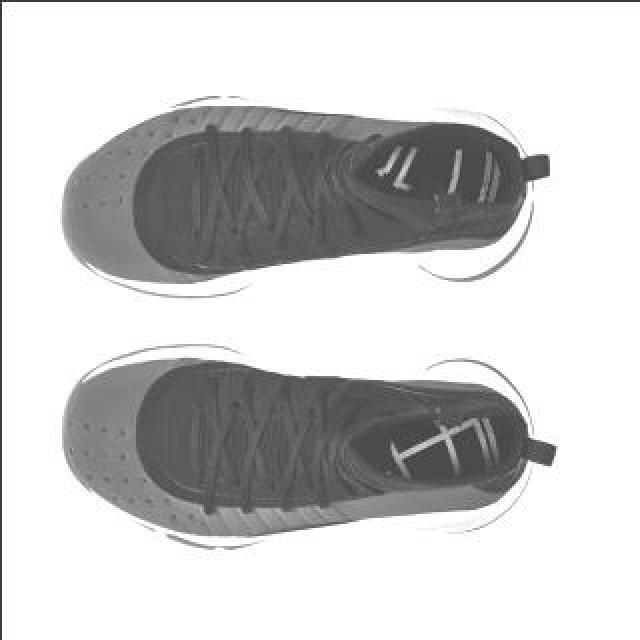shoe: (56, 90, 548, 306), (59, 341, 539, 549)
